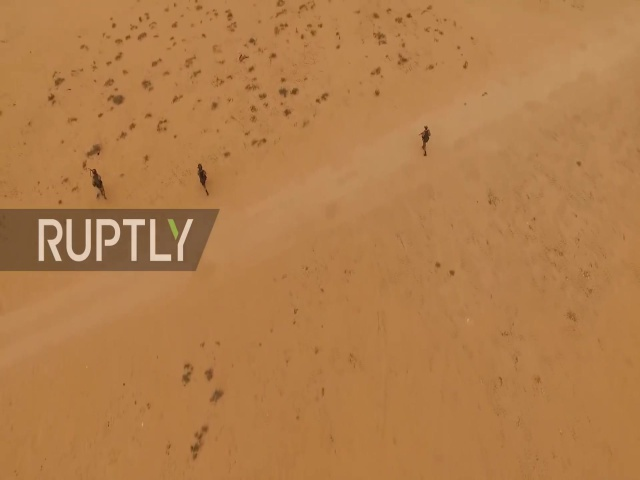person: (86, 167, 113, 203), (191, 160, 213, 197), (418, 123, 433, 158)
